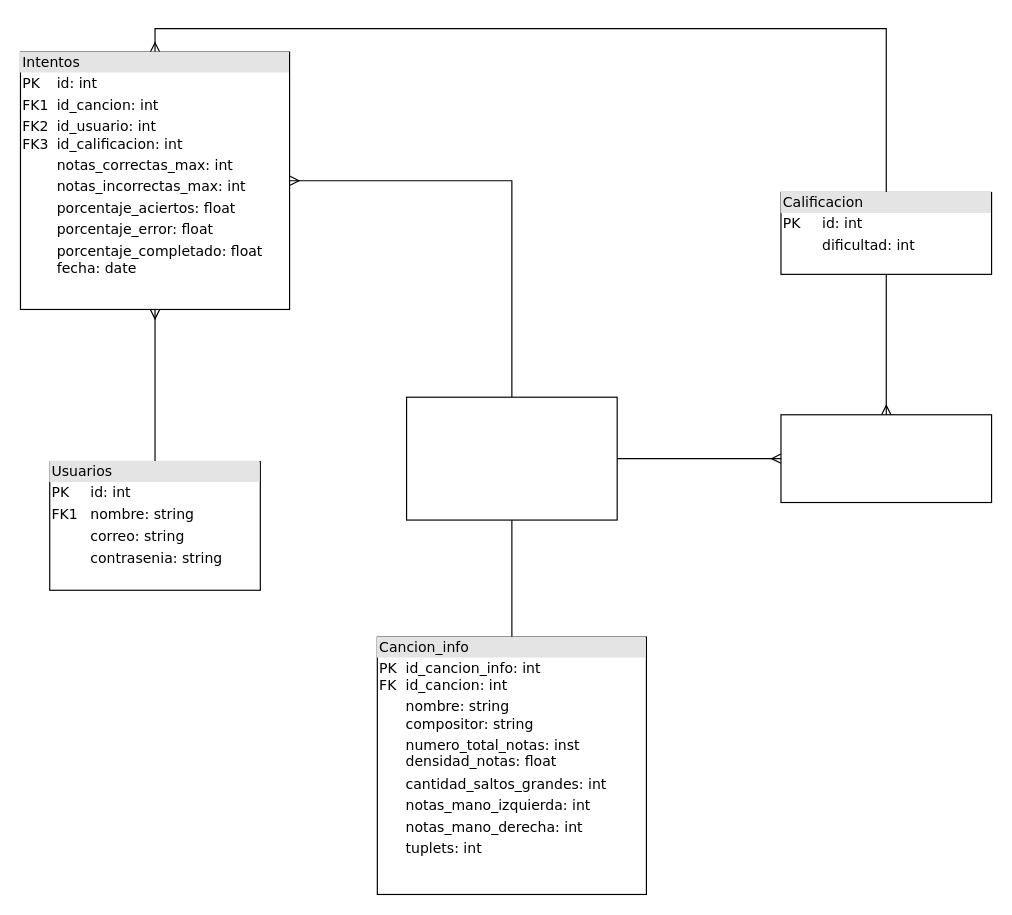
The diagram is 1012 pixels wide and 915 high, and some of its shapes have lost their labels. The centre of each missing label's shape, as x and y in pixels:
Cancion PK id: int nombre: string compositor: string archivo: xml imagen: string: (511,458)
Cancion_Calificacion PK id_cancion: int PK id_calificacion: string: (886,458)
